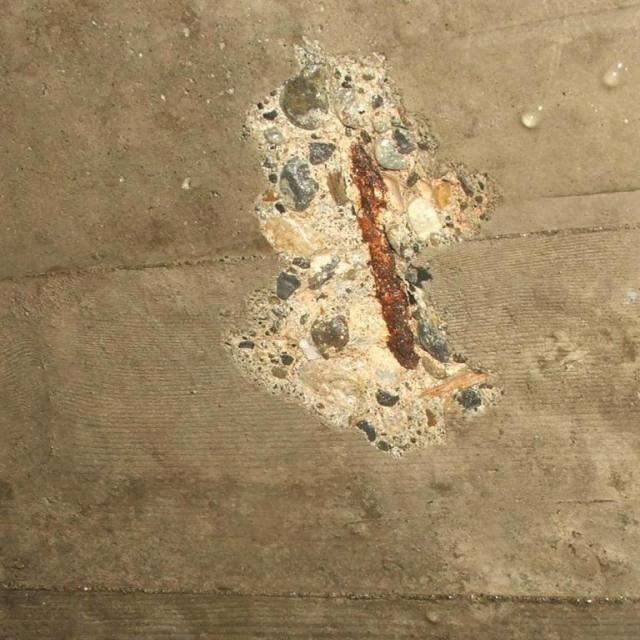Rebar: (219, 31, 503, 456)
